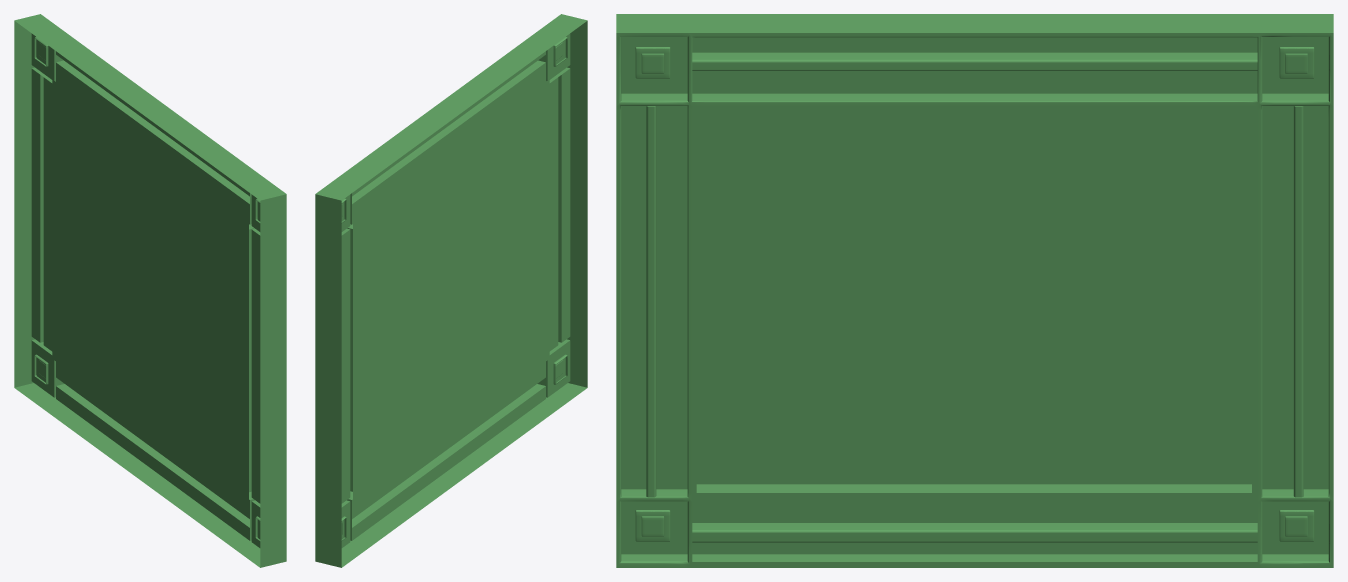
File: SM_Picture_Frame_4_Square_01.fbx
3 renders of one model, left to right at view 1: azimuth 30°, elevation 25°; view 2: azimuth 150°, elevation 25°; view 3: azimuth 270°, elevation 25°, orthographic. The views are drawn at different scales.
Visible parts, largest first — view 1: Picture_frame_4:pCube12; view 2: Picture_frame_4:pCube12; view 3: Picture_frame_4:pCube12.
Part boxes in pixels (bbox=[...]): Picture_frame_4:pCube12: bbox=[14, 14, 286, 567]; Picture_frame_4:pCube12: bbox=[315, 14, 587, 567]; Picture_frame_4:pCube12: bbox=[616, 14, 1333, 567].
Bounding box in the file's own units: 0.4108 × 5.36 × 6.5.
